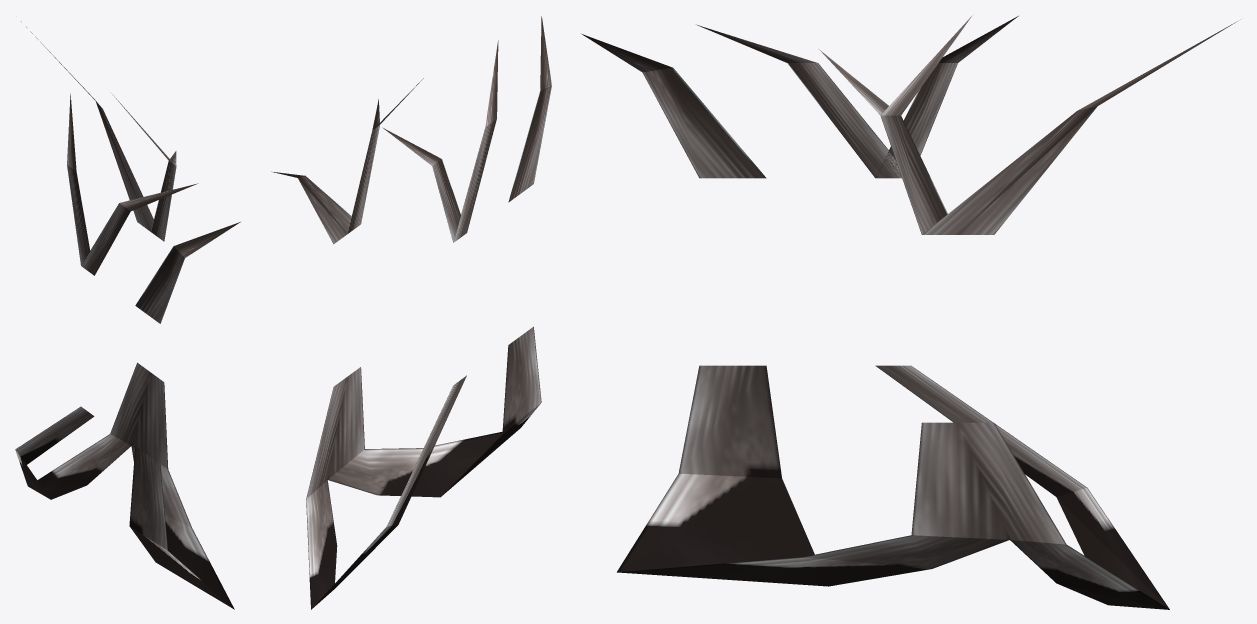
The picture shows the model from 3 angles, left to right: view 1: azimuth 30°, elevation 25°; view 2: azimuth 150°, elevation 25°; view 3: azimuth 270°, elevation 25°; orthographic projection. The views are drawn at different scales.
Parts seen in each view (by area): view 1: B_0066_1b_0; view 2: B_0066_1b_0; view 3: B_0066_1b_0.
Boxes of the visible parts, left/top/right/bottom form: B_0066_1b_0: left=15, top=21, right=240, bottom=609; B_0066_1b_0: left=271, top=16, right=551, bottom=609; B_0066_1b_0: left=582, top=15, right=1240, bottom=609.
Size of the model in its own units: 0.234 by 1.15 by 1.15.
